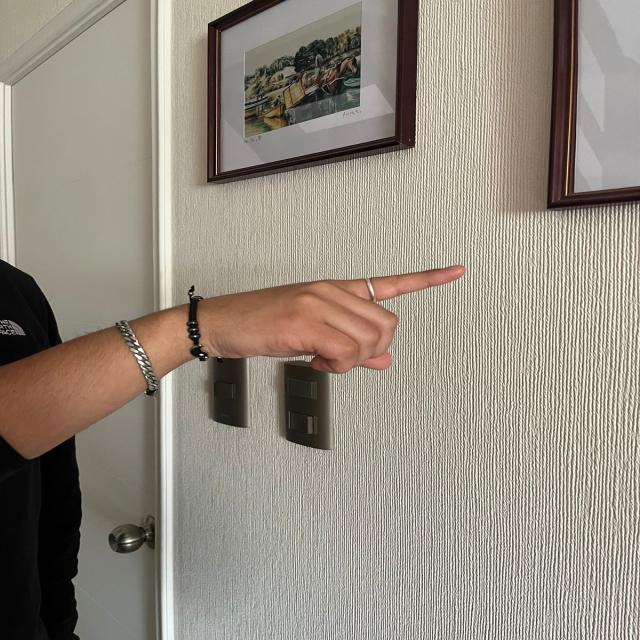S: (197, 255, 472, 382)
